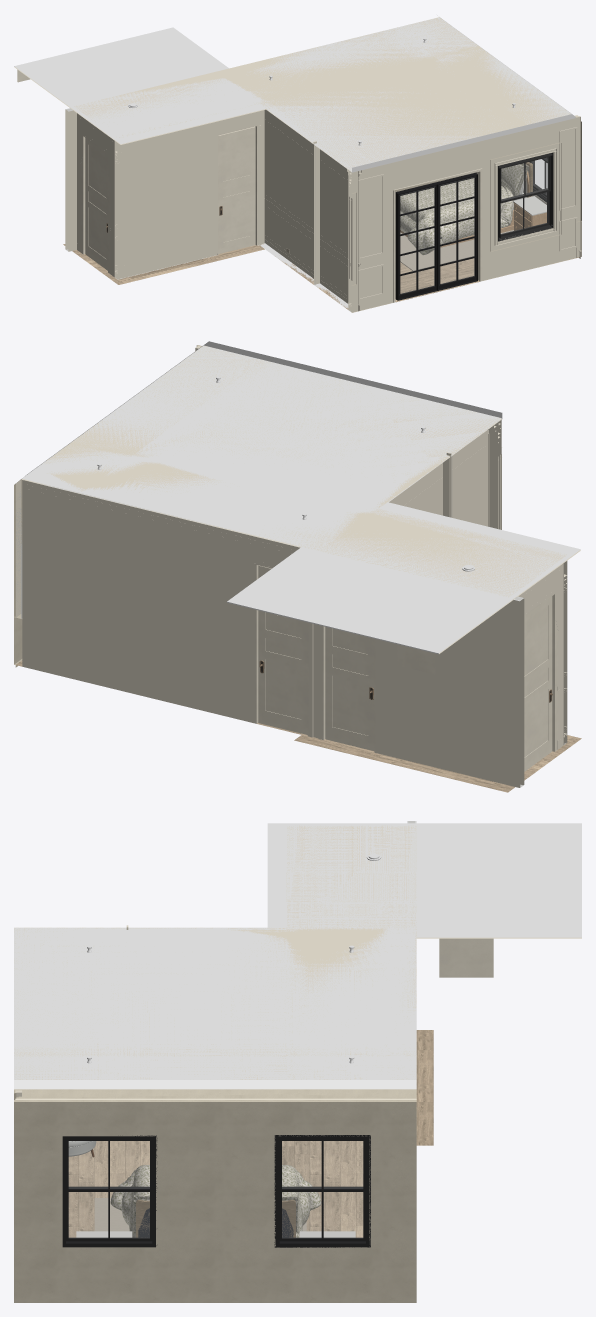
The model's file is primary-bedroom-cd8753a1e358.glb.
3 renders of one model, top to bottom at view 1: azimuth 30°, elevation 25°; view 2: azimuth 150°, elevation 25°; view 3: azimuth 270°, elevation 25°, orthographic. The views are drawn at different scales.
Visible parts, largest first — view 1: primary-bedroom-e8793759323e04f0, primary-bedroom-9d91b47435c6fb33, primary-bedroom-b0ade14315e4f1c3, primary-bedroom-look-9ecc0d558be1c706, primary-bedroom-look-9d91b47435c6fb33, primary-bedroom-fc6585fecfaf7ec3, primary-bedroom-18f70a4a9eda5dac, primary-bedroom-42fce09358828e49, primary-bedroom-d70d42a253f78e60, primary-bedroom-e1735639a83d20d7, primary-bedroom-c791a0f218fead78, primary-bedroom-6c54e09c161b5848 (+20 smaller); view 2: primary-bedroom-21ac2ed1b4475155, primary-bedroom-9d91b47435c6fb33, primary-bedroom-e8793759323e04f0, primary-bedroom-look-9d91b47435c6fb33, primary-bedroom-b7a870a0f6b43c8c, primary-bedroom-6d601da8073fdc0e, primary-bedroom-6c54e09c161b5848, primary-bedroom-c791a0f218fead78, primary-bedroom-look-21ac2ed1b4475155, primary-bedroom-look-2575515a05775d9e, primary-bedroom-e48b5483df8cacdb, primary-bedroom-fc6585fecfaf7ec3 (+6 smaller); view 3: primary-bedroom-9d91b47435c6fb33, primary-bedroom-adb6f49a6d2cbec3, primary-bedroom-look-9d91b47435c6fb33, primary-bedroom-16d9002bc6318568, primary-bedroom-e8793759323e04f0, primary-bedroom-91f952a1d198b4a4, primary-bedroom-2575515a05775d9e, primary-bedroom-f5a37a5545b9d676, primary-bedroom-791abe15be22adf2, primary-bedroom-look-95b94d4b81cfb474, primary-bedroom-look-2575515a05775d9e, primary-bedroom-b29583548b72a1ea (+4 smaller).
Boxes of the visible parts, <box> form: primary-bedroom-e8793759323e04f0: <box>74,15,575,171</box>; primary-bedroom-9d91b47435c6fb33: <box>74,17,575,172</box>; primary-bedroom-b0ade14315e4f1c3: <box>348,116,581,312</box>; primary-bedroom-look-9ecc0d558be1c706: <box>124,111,259,276</box>; primary-bedroom-look-9d91b47435c6fb33: <box>14,27,265,144</box>; primary-bedroom-fc6585fecfaf7ec3: <box>260,109,319,284</box>; primary-bedroom-18f70a4a9eda5dac: <box>218,126,255,253</box>; primary-bedroom-42fce09358828e49: <box>438,174,477,290</box>; primary-bedroom-d70d42a253f78e60: <box>398,184,437,300</box>; primary-bedroom-e1735639a83d20d7: <box>498,152,553,241</box>; primary-bedroom-c791a0f218fead78: <box>314,144,358,310</box>; primary-bedroom-6c54e09c161b5848: <box>82,135,108,272</box>; primary-bedroom-21ac2ed1b4475155: <box>22,480,508,785</box>; primary-bedroom-9d91b47435c6fb33: <box>21,345,567,597</box>; primary-bedroom-e8793759323e04f0: <box>25,341,566,597</box>; primary-bedroom-look-9d91b47435c6fb33: <box>227,502,580,654</box>; primary-bedroom-b7a870a0f6b43c8c: <box>258,565,307,734</box>; primary-bedroom-6d601da8073fdc0e: <box>325,627,374,750</box>; primary-bedroom-6c54e09c161b5848: <box>524,592,555,771</box>; primary-bedroom-c791a0f218fead78: <box>443,426,491,526</box>; primary-bedroom-look-21ac2ed1b4475155: <box>509,596,524,787</box>; primary-bedroom-look-2575515a05775d9e: <box>294,735,581,792</box>; primary-bedroom-e48b5483df8cacdb: <box>518,563,563,748</box>; primary-bedroom-fc6585fecfaf7ec3: <box>388,457,449,515</box>; primary-bedroom-9d91b47435c6fb33: <box>14,825,416,1089</box>; primary-bedroom-adb6f49a6d2cbec3: <box>14,1100,416,1247</box>; primary-bedroom-look-9d91b47435c6fb33: <box>267,823,581,938</box>; primary-bedroom-16d9002bc6318568: <box>15,1248,416,1300</box>; primary-bedroom-e8793759323e04f0: <box>14,825,416,1088</box>; primary-bedroom-91f952a1d198b4a4: <box>274,1135,370,1247</box>; primary-bedroom-2575515a05775d9e: <box>14,1141,416,1302</box>; primary-bedroom-f5a37a5545b9d676: <box>62,1135,157,1247</box>; primary-bedroom-791abe15be22adf2: <box>14,1089,416,1098</box>; primary-bedroom-look-95b94d4b81cfb474: <box>439,938,493,977</box>; primary-bedroom-look-2575515a05775d9e: <box>416,1030,433,1145</box>; primary-bedroom-b29583548b72a1ea: <box>125,1165,304,1237</box>.
Size of the model in its own units: 8.2 by 3.04 by 7.21.
45 materials, 12 textured.
